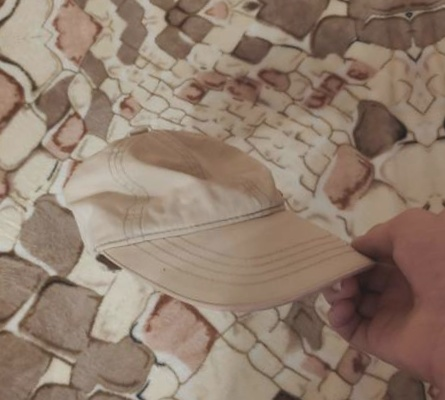Hat: (28, 53, 379, 372)
